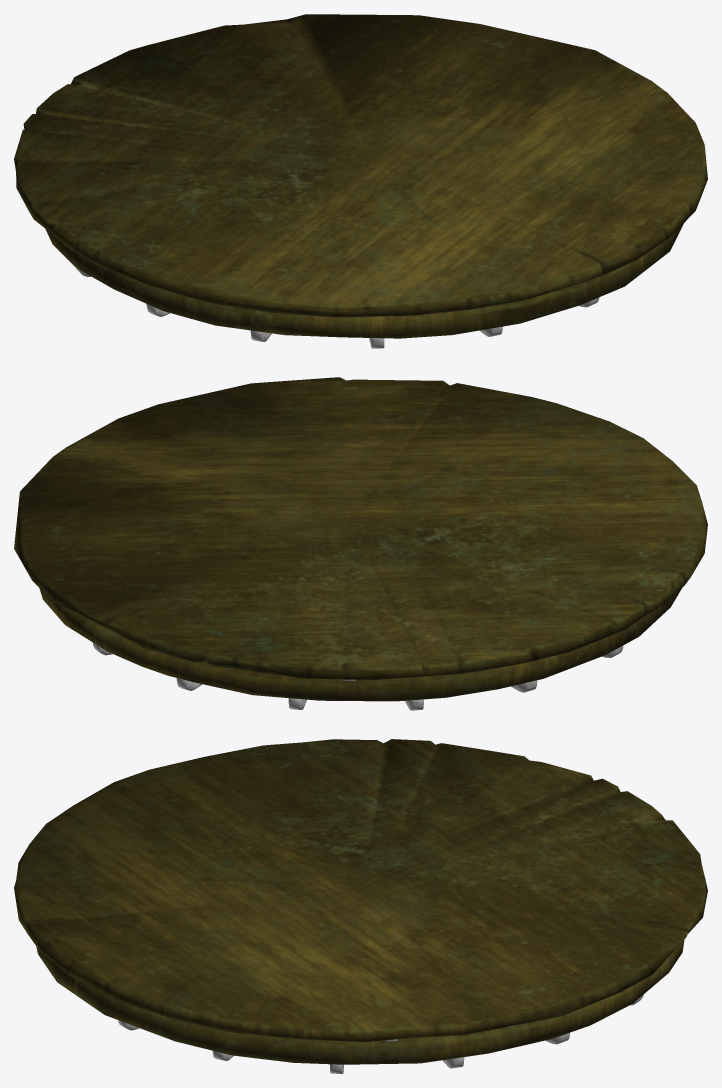
Rendered from SM_platform_bottom_support.fbx.
3 renders of one model, top to bottom at view 1: azimuth 30°, elevation 25°; view 2: azimuth 150°, elevation 25°; view 3: azimuth 270°, elevation 25°, orthographic.
Parts seen in each view (by area): view 1: platform_bottom_support; view 2: platform_bottom_support; view 3: platform_bottom_support.
Boxes of the visible parts, box(x1,y1,x2,y2) form: platform_bottom_support: box(14, 14, 707, 348); platform_bottom_support: box(14, 377, 707, 710); platform_bottom_support: box(14, 739, 707, 1073).
Bounding box in the file's own units: 2230 × 216 × 2231.
